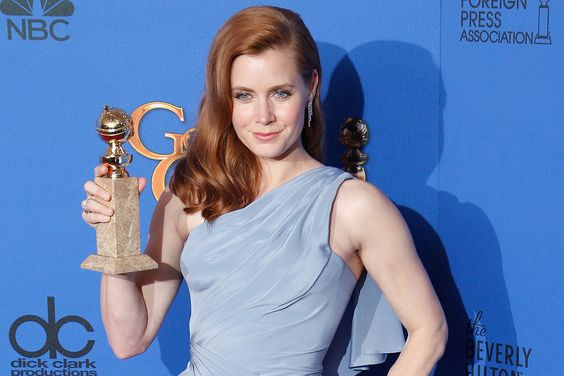hand: (79, 170, 143, 224)
